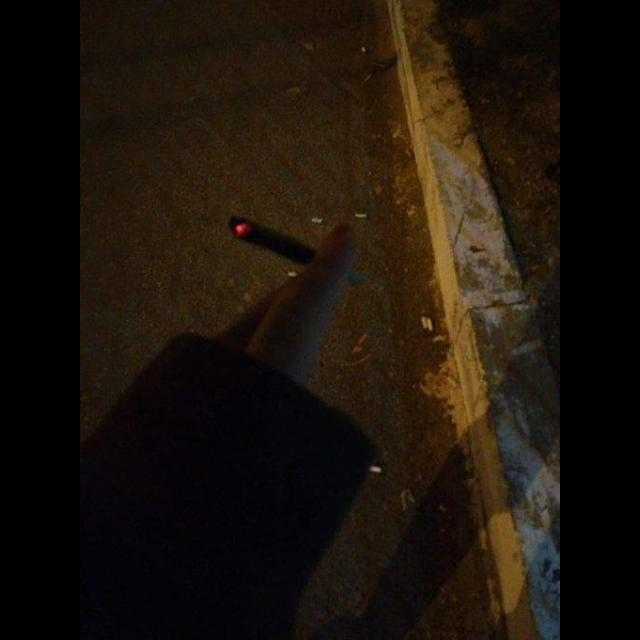rokok: (227, 209, 369, 291)
